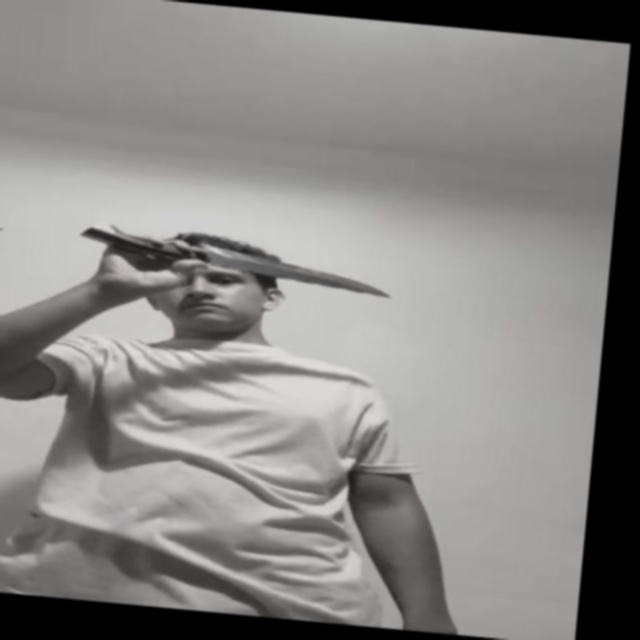Sharp-Object: (201, 244, 392, 298)
